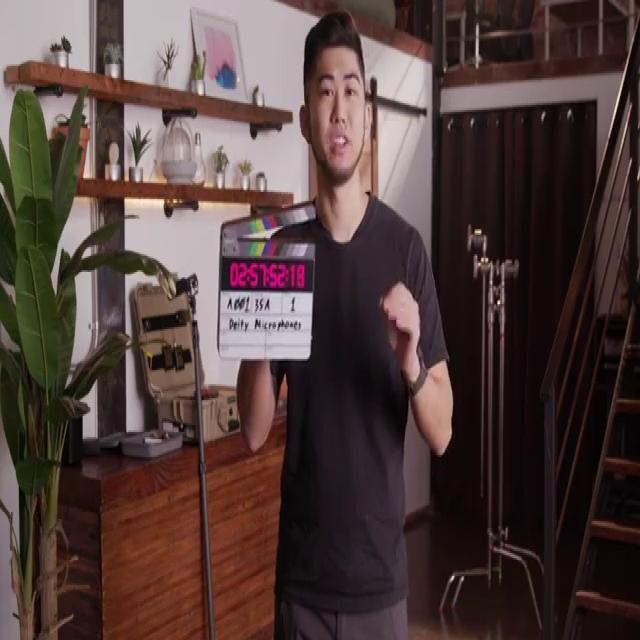Clapperboard: (215, 197, 315, 360)
